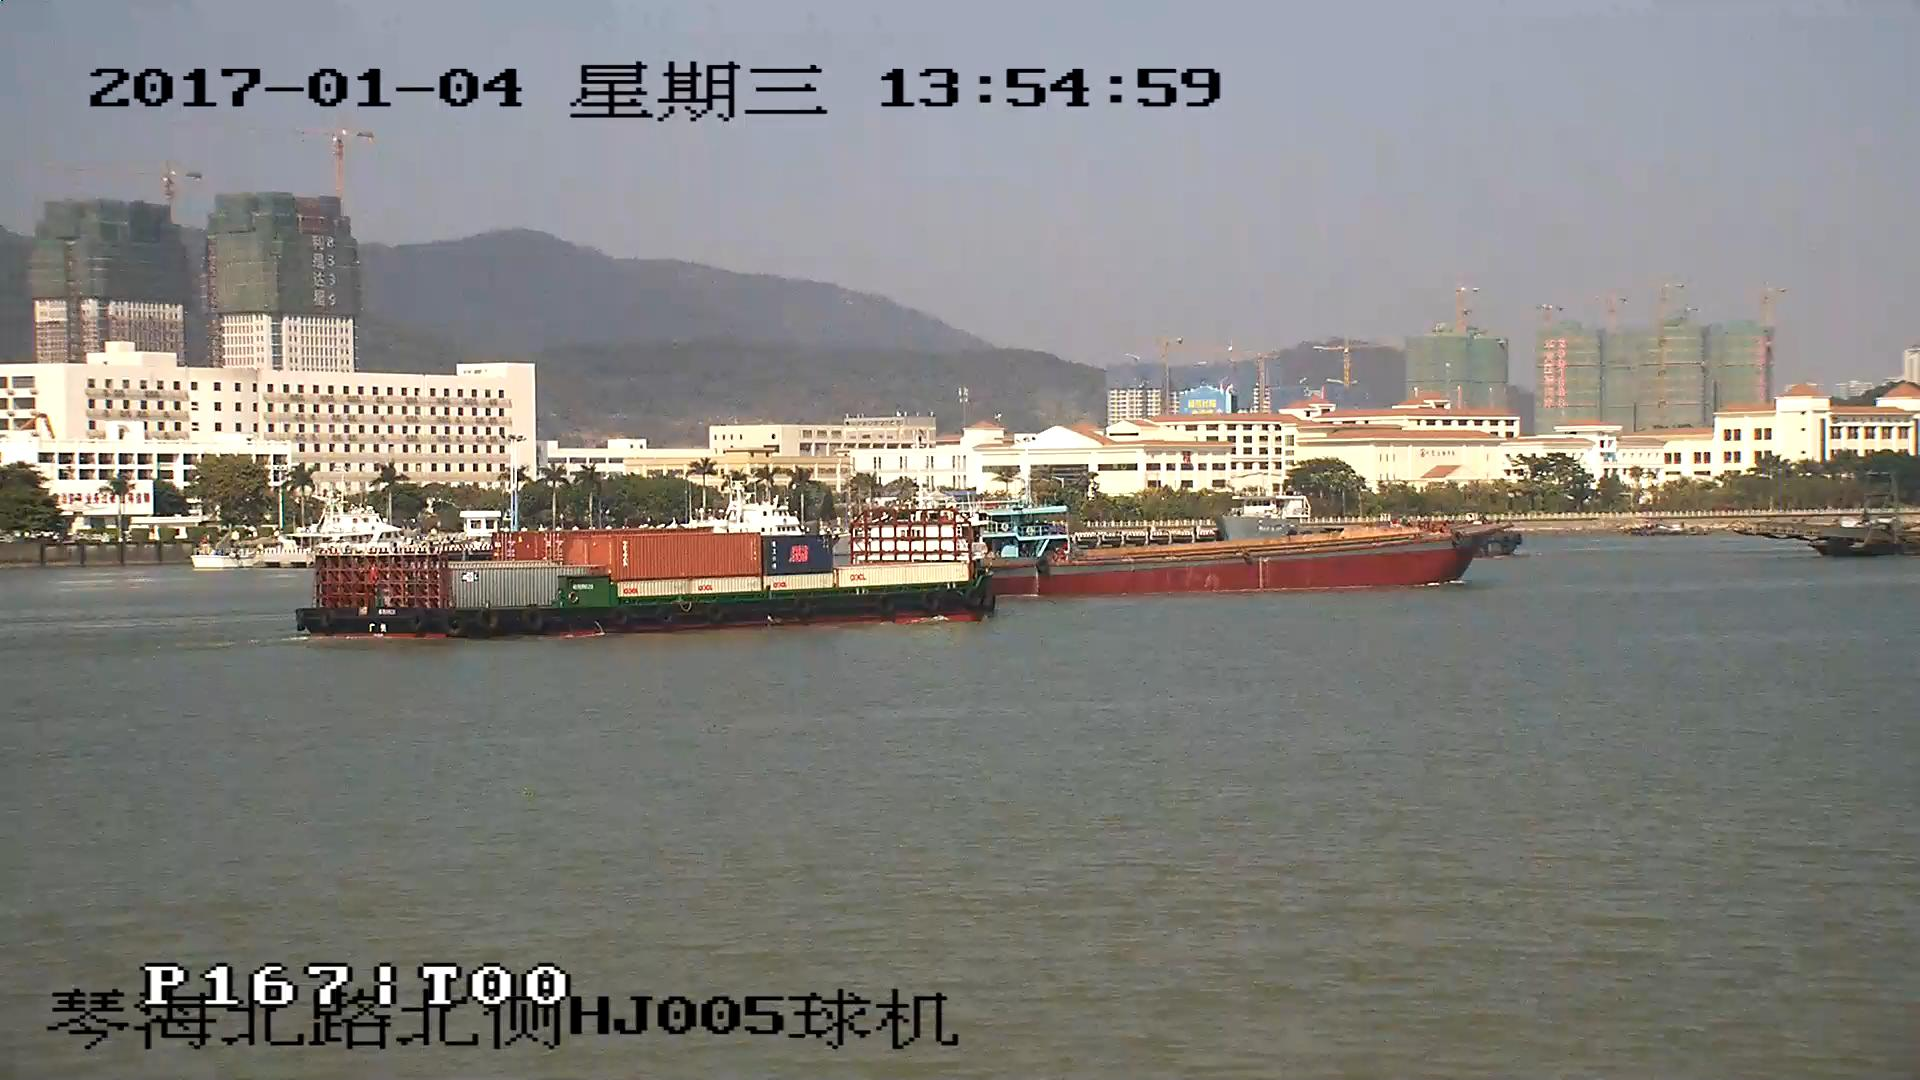bulk cargo carrier: (1002, 526, 1507, 593)
container ship: (298, 510, 996, 636)
